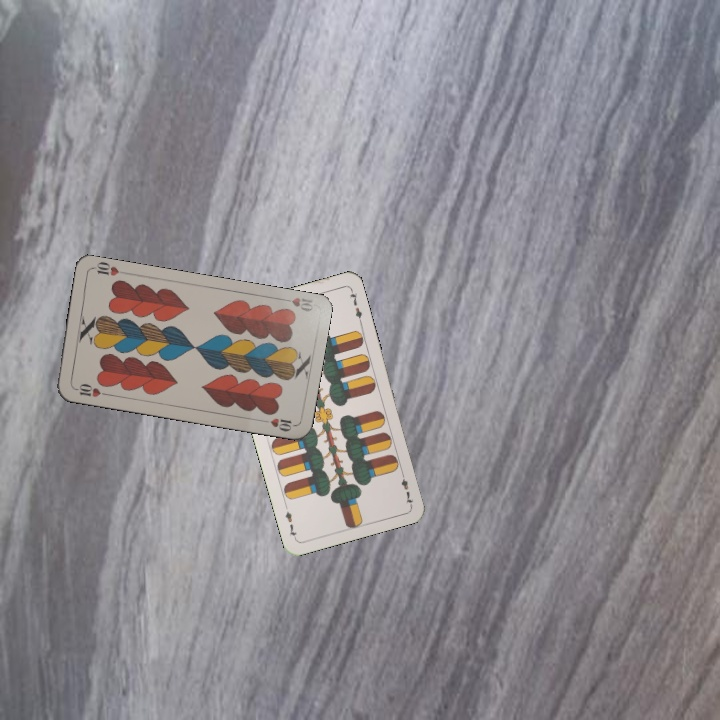E7: (397, 467, 416, 507)
H10: (70, 379, 110, 400), (276, 293, 316, 314)
